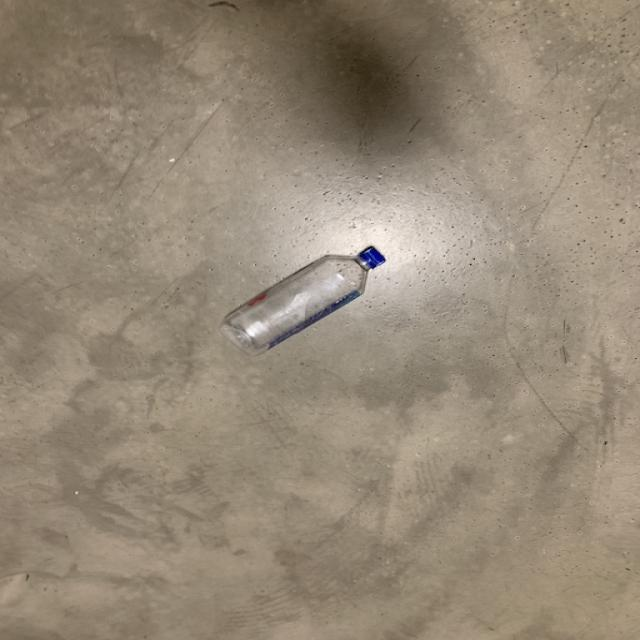Waste: (220, 246, 386, 356)
